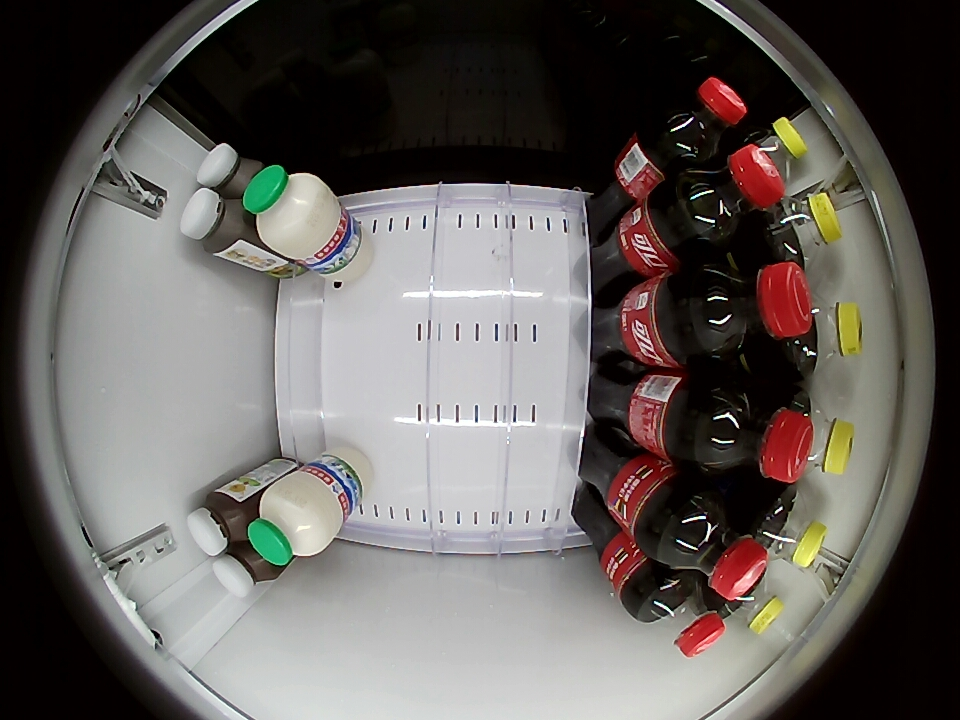baishikele: (783, 299, 863, 378), (753, 489, 828, 568), (762, 192, 841, 267), (788, 391, 855, 476), (740, 117, 807, 179), (719, 574, 785, 634)
kele-b: (696, 380, 814, 483), (659, 491, 767, 600), (696, 261, 812, 359), (679, 145, 783, 244), (655, 77, 746, 164), (636, 573, 727, 658)
liziyuan: (244, 164, 343, 262), (249, 467, 345, 565)
youyanggudong: (180, 188, 248, 257), (187, 489, 252, 556), (211, 542, 281, 596), (197, 143, 263, 197)
